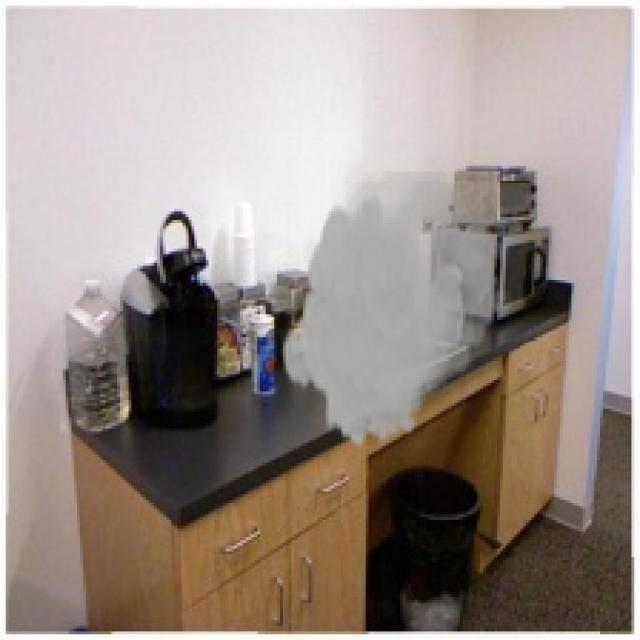smoke: (280, 172, 514, 452)
